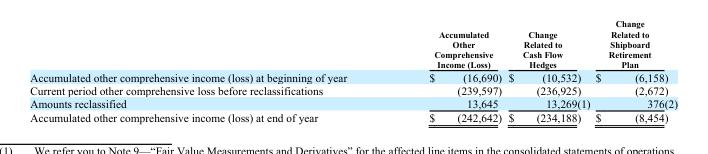table: (29, 28, 676, 123)
table column: (29, 28, 387, 123), (387, 28, 504, 123), (504, 28, 592, 123), (592, 28, 676, 123)
table column header: (29, 28, 676, 69)
table row: (29, 28, 676, 69), (29, 69, 676, 83), (29, 96, 676, 110), (29, 83, 676, 96), (29, 110, 676, 123)
